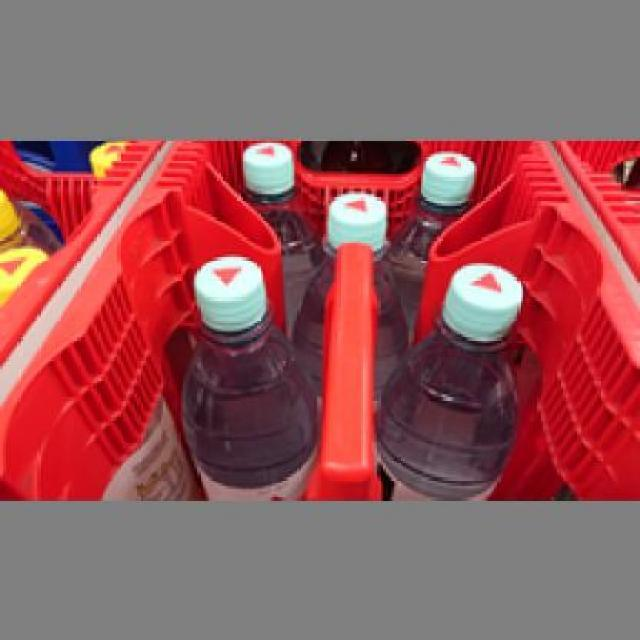Water: (372, 262, 528, 495), (172, 248, 314, 494)
